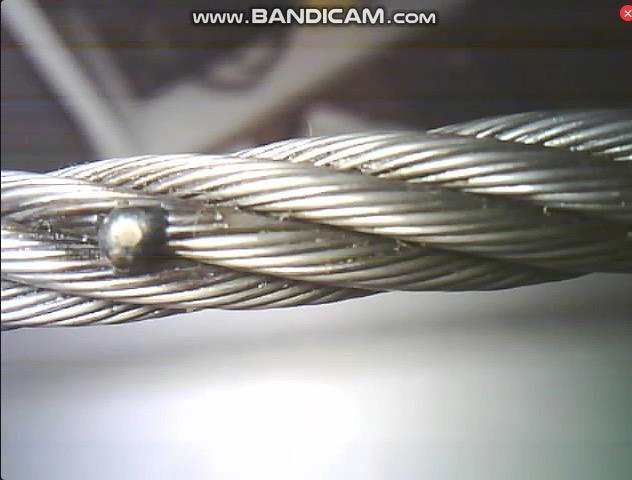thunderbolt: (79, 195, 190, 261)
